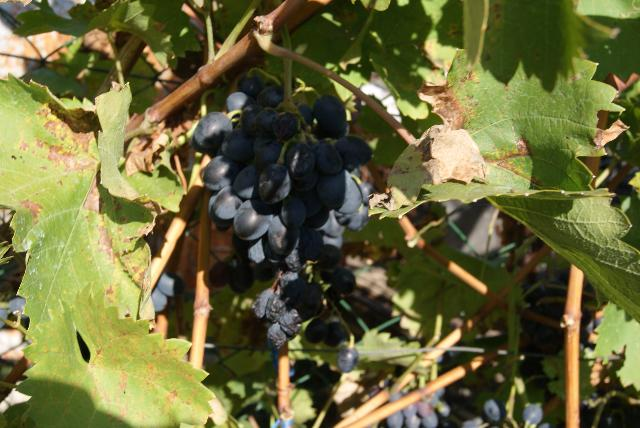grapes: (190, 74, 372, 371)
